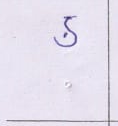u_matra: (54, 32, 79, 47)
